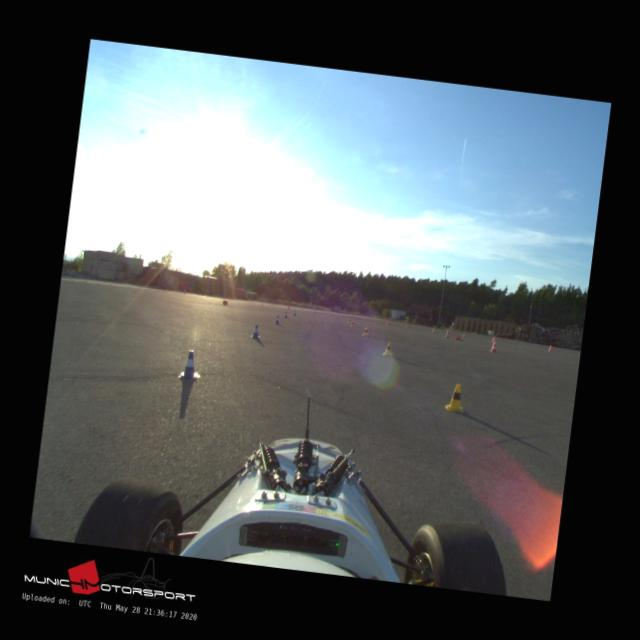blue_cone: (178, 349, 202, 381), (249, 324, 261, 338), (274, 316, 280, 324)
large_orange_cone: (490, 338, 498, 352)
yellow_cone: (444, 382, 466, 413), (382, 340, 394, 356), (362, 326, 368, 336)
